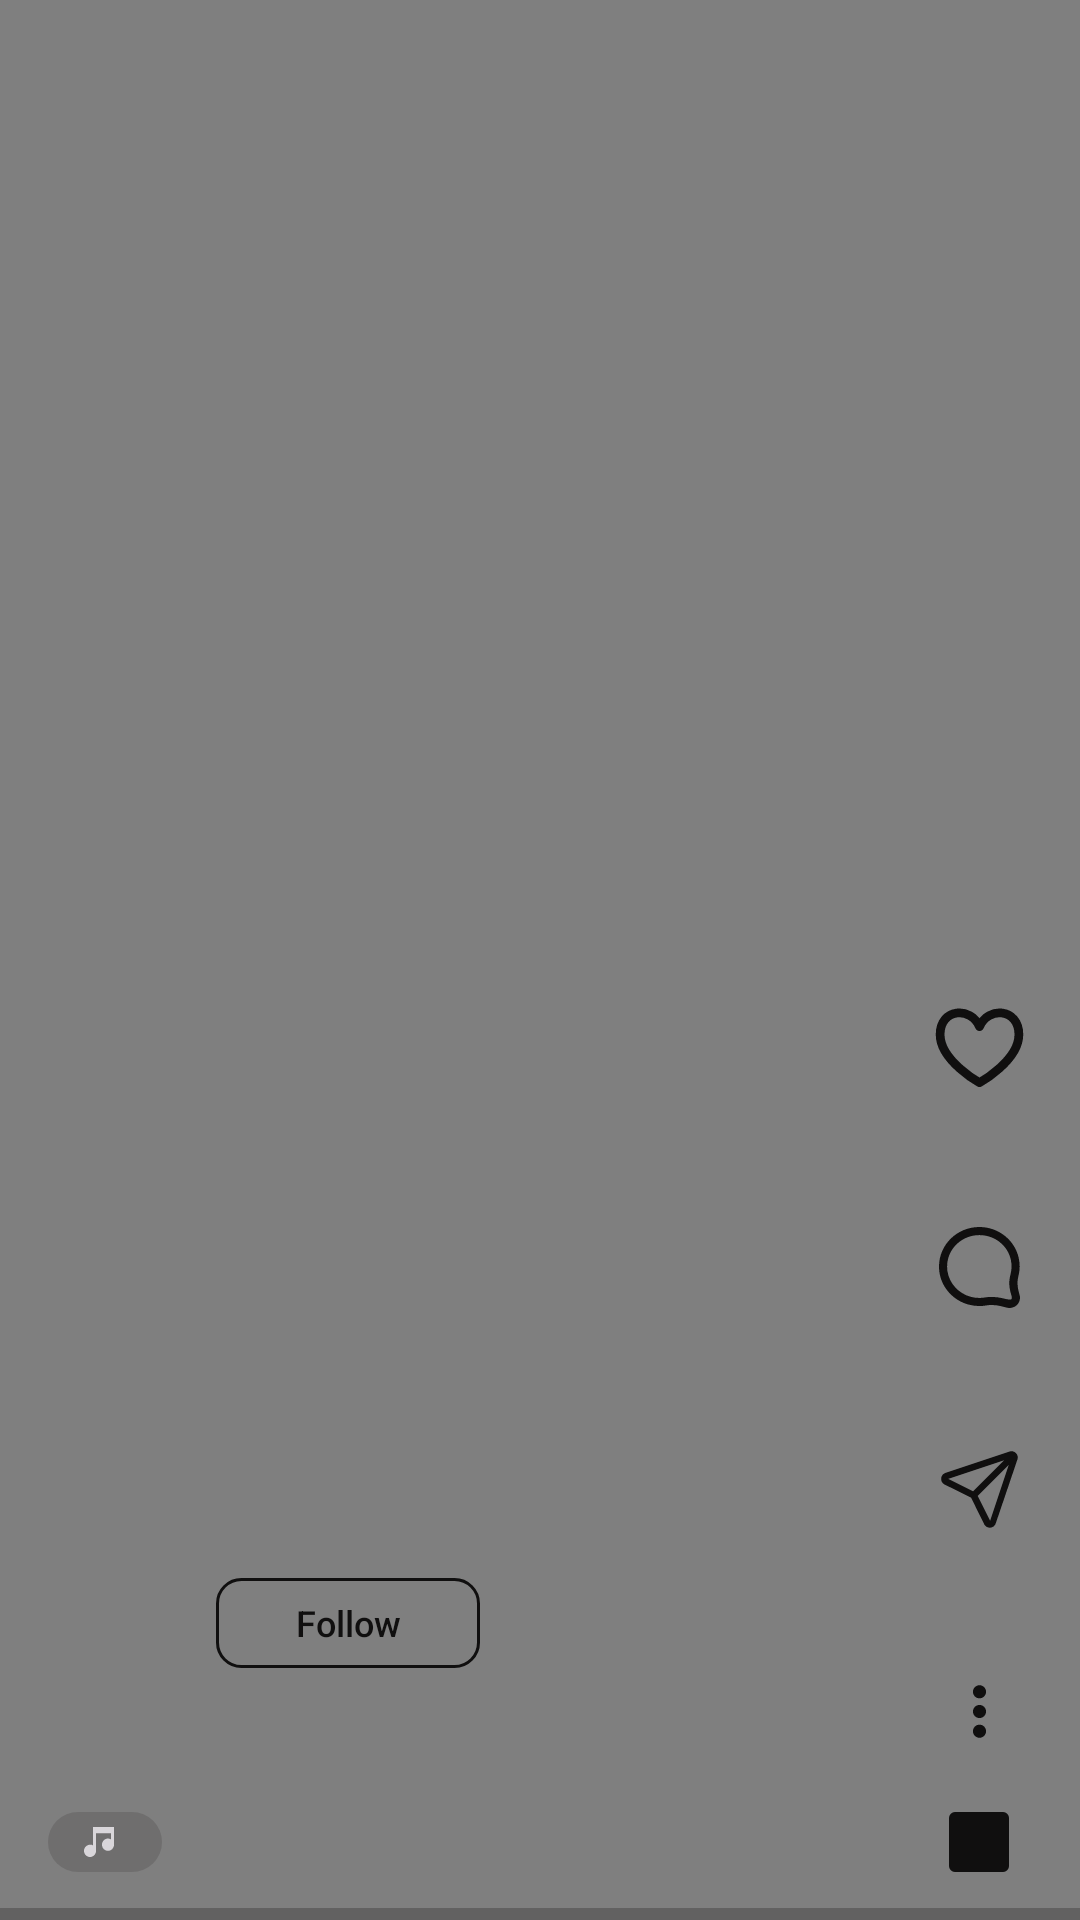

Where to tap for icons on this 1080w x 1920h app screen, as point (x, y):
comments: point (979, 1267)
heart: point (979, 1047)
music: point (99, 1842)
share: point (979, 1489)
three dots: point (979, 1711)
